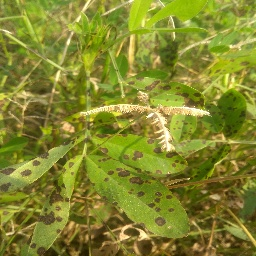GroundNut_Leaf: (88, 156, 191, 240), (31, 156, 82, 251), (88, 128, 161, 155), (147, 79, 206, 112), (214, 87, 249, 142), (164, 115, 197, 142), (129, 2, 148, 32)
